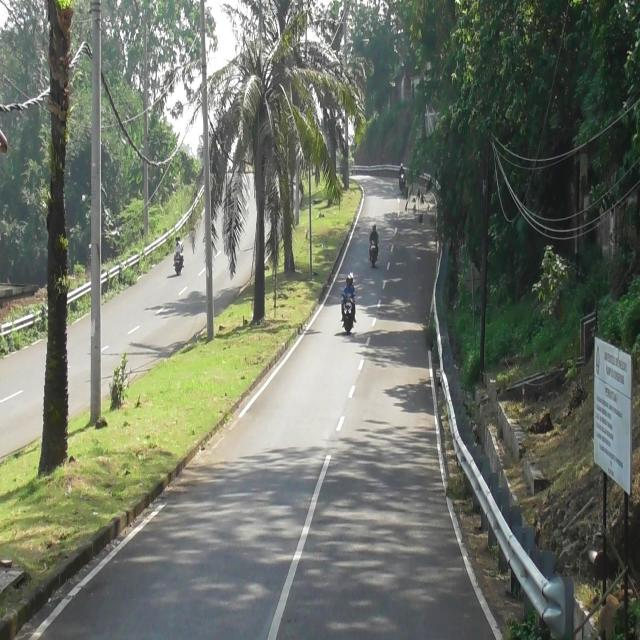motorcycle: (342, 297, 354, 332), (370, 239, 377, 267), (399, 175, 406, 195), (175, 257, 182, 276)
person: (343, 276, 354, 302), (368, 224, 380, 244), (174, 237, 184, 261), (178, 236, 184, 250), (399, 163, 405, 176), (349, 272, 354, 284)
rider_region: (342, 272, 356, 334), (368, 222, 380, 268), (173, 236, 184, 276), (399, 162, 407, 198)
